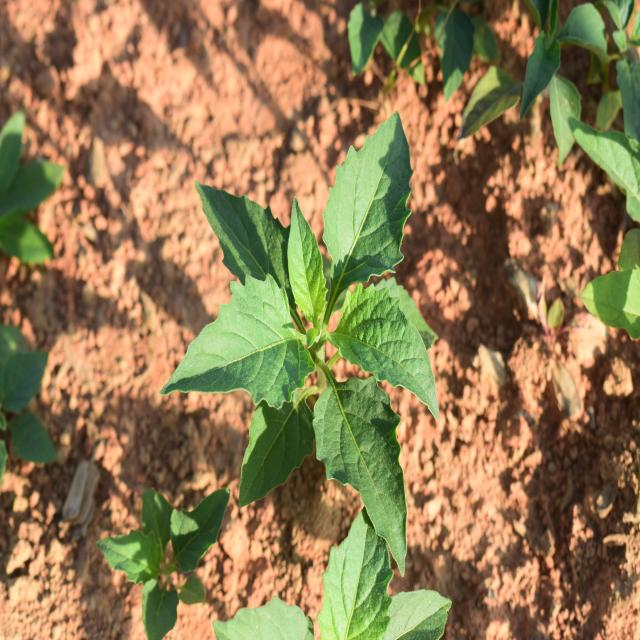Black_nightshade: (182, 137, 454, 547)
